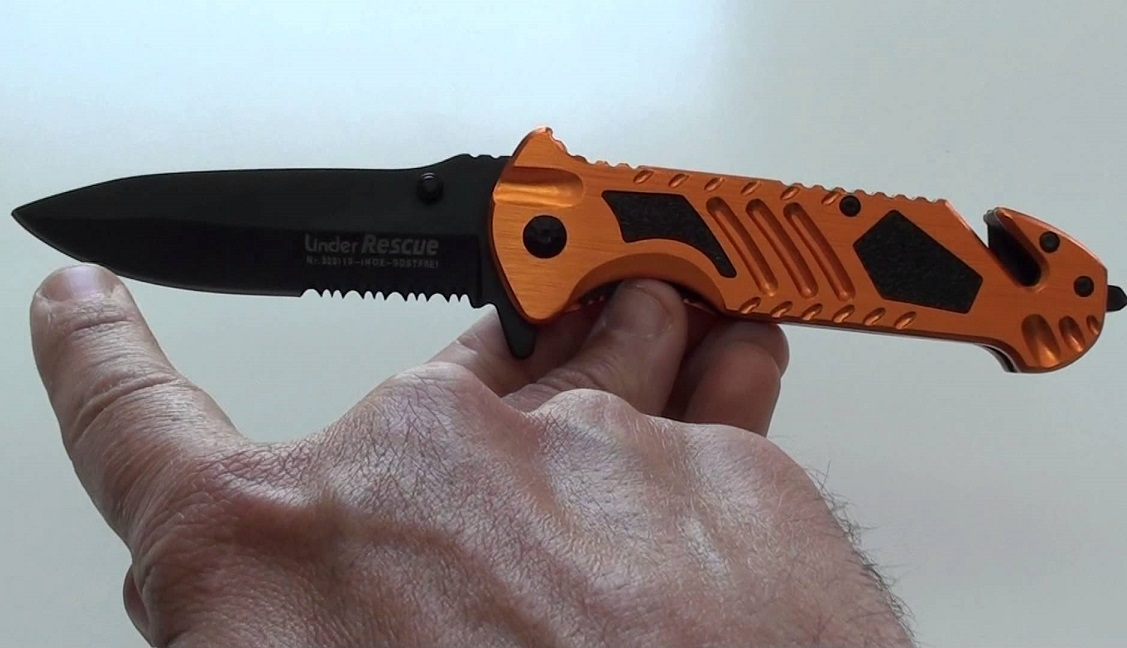knife: (1, 104, 674, 379)
